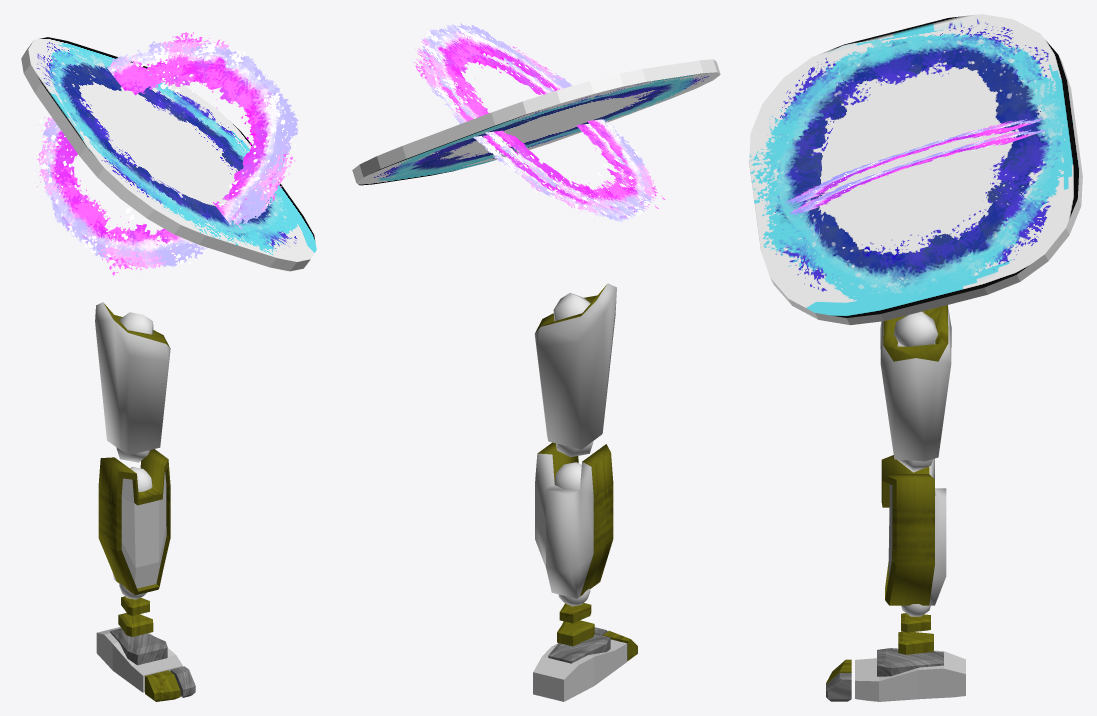
File: Robot 10 R leg.fbx
3 views of the same model, side by side, from view 1: azimuth 30°, elevation 25°; view 2: azimuth 150°, elevation 25°; view 3: azimuth 270°, elevation 25° (orthographic). The views are drawn at different scales.
Parts seen in each view (by area): view 1: galaxy blue, galaxy purple, Icosphere, Icosphere.011, Cube.015, Cube.021, Cube.023, Cube.020; view 2: galaxy purple, galaxy blue, Icosphere, Icosphere.011, Cube.015, Cube.023; view 3: galaxy blue, Icosphere, Icosphere.011, Cube.015, galaxy purple, Cube.023, Cube.020.
Boxes of the visible parts, x1=… form: galaxy blue: x1=21, y1=37, x2=316, y2=271; galaxy purple: x1=33, y1=32, x2=303, y2=275; Icosphere: x1=95, y1=302, x2=170, y2=462; Icosphere.011: x1=98, y1=449, x2=170, y2=599; Cube.015: x1=96, y1=627, x2=182, y2=692; Cube.021: x1=145, y1=670, x2=180, y2=701; Cube.023: x1=118, y1=613, x2=153, y2=636; Cube.020: x1=170, y1=666, x2=195, y2=697; galaxy purple: x1=413, y1=23, x2=665, y2=222; galaxy blue: x1=352, y1=59, x2=720, y2=185; Icosphere: x1=534, y1=283, x2=616, y2=457; Icosphere.011: x1=535, y1=442, x2=613, y2=606; Cube.015: x1=533, y1=634, x2=627, y2=701; Cube.023: x1=557, y1=620, x2=594, y2=646; galaxy blue: x1=749, y1=14, x2=1082, y2=325; Icosphere: x1=880, y1=305, x2=951, y2=472; Icosphere.011: x1=881, y1=455, x2=946, y2=616; Cube.015: x1=855, y1=648, x2=965, y2=701; galaxy purple: x1=785, y1=118, x2=1046, y2=216; Cube.023: x1=898, y1=631, x2=933, y2=654; Cube.020: x1=826, y1=673, x2=851, y2=701.
Bounding box in the file's own units: 716 × 1694 × 799.
